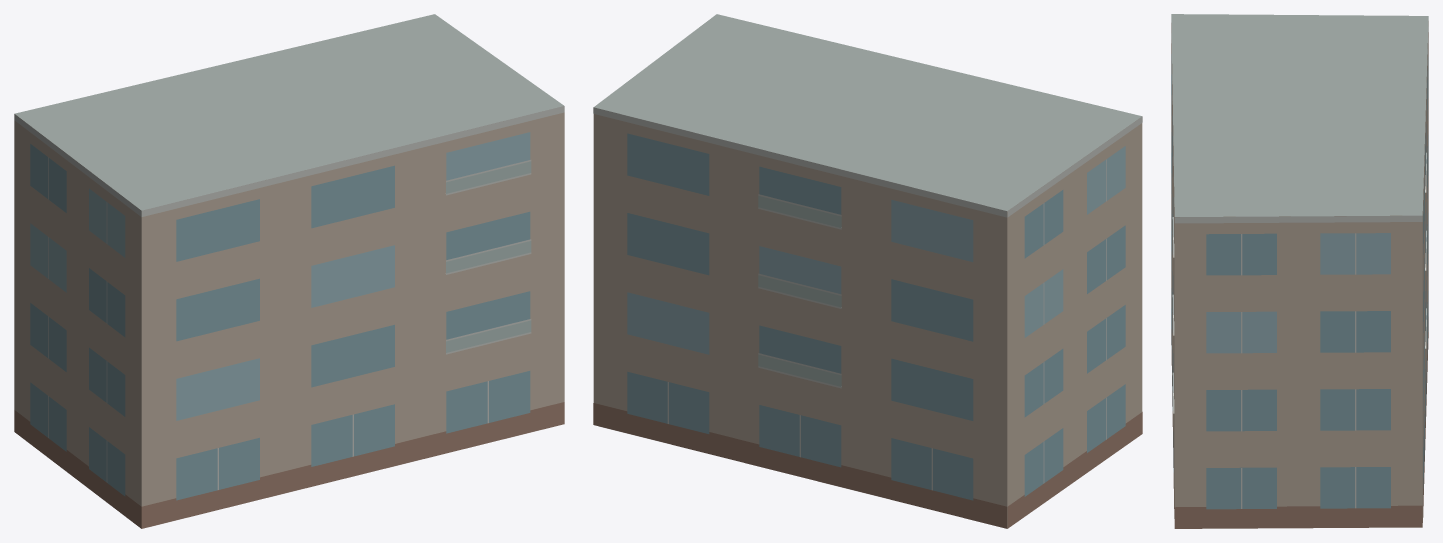
File: survey-upis-32982156.glb
3 views of the same model, side by side, from view 1: azimuth 30°, elevation 25°; view 2: azimuth 150°, elevation 25°; view 3: azimuth 270°, elevation 25° (orthographic). The views are drawn at different scales.
Parts seen in each view (by area): view 1: survey-upis-32982156.tmp; view 2: survey-upis-32982156.tmp; view 3: survey-upis-32982156.tmp.
Boxes of the visible parts, box(x1,y1,x2,y2) form: survey-upis-32982156.tmp: box(14, 14, 564, 528); survey-upis-32982156.tmp: box(593, 14, 1142, 528); survey-upis-32982156.tmp: box(1171, 14, 1428, 528).
Size of the model in its own units: 16.7 by 11.95 by 8.95.
